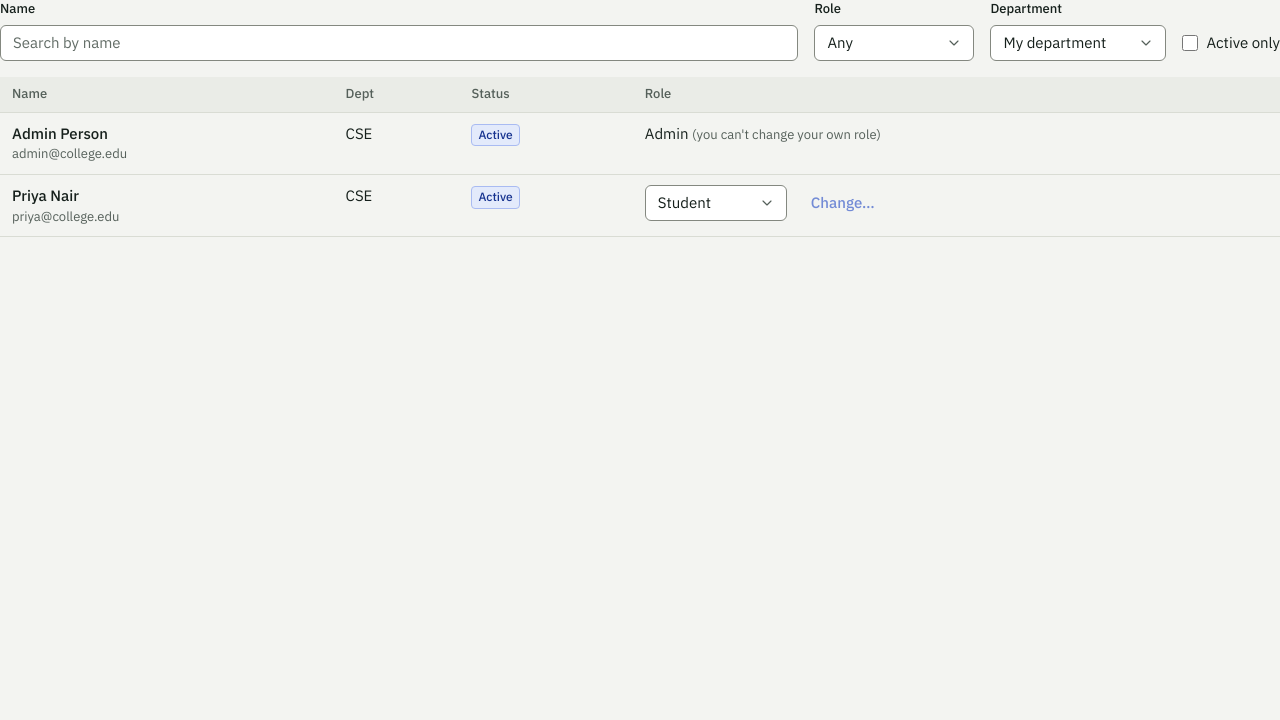
users tab › changes a role only after a confirm that says what the role allows
Select "Faculty" in the dropdown named "Role for Priya Nair" at (716, 203), box left=645, top=185, right=787, bottom=221
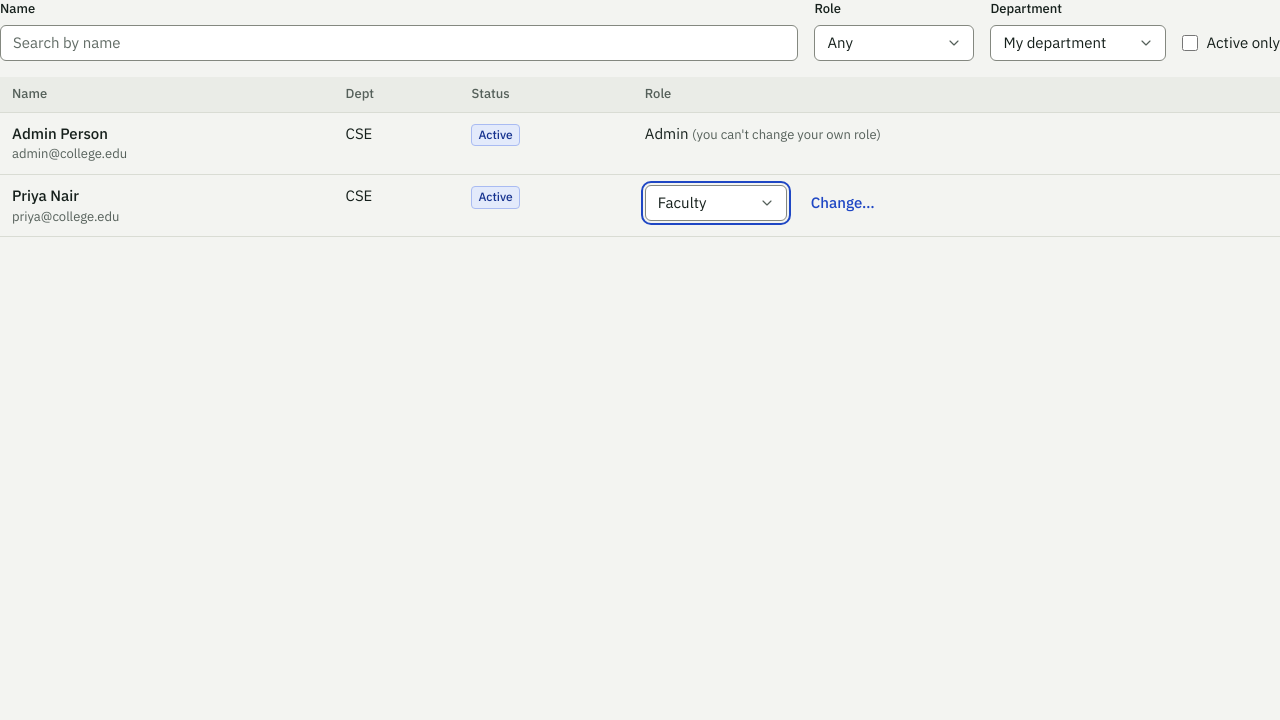
Click the button "Change…".
click(843, 203)  # box left=795, top=185, right=891, bottom=221
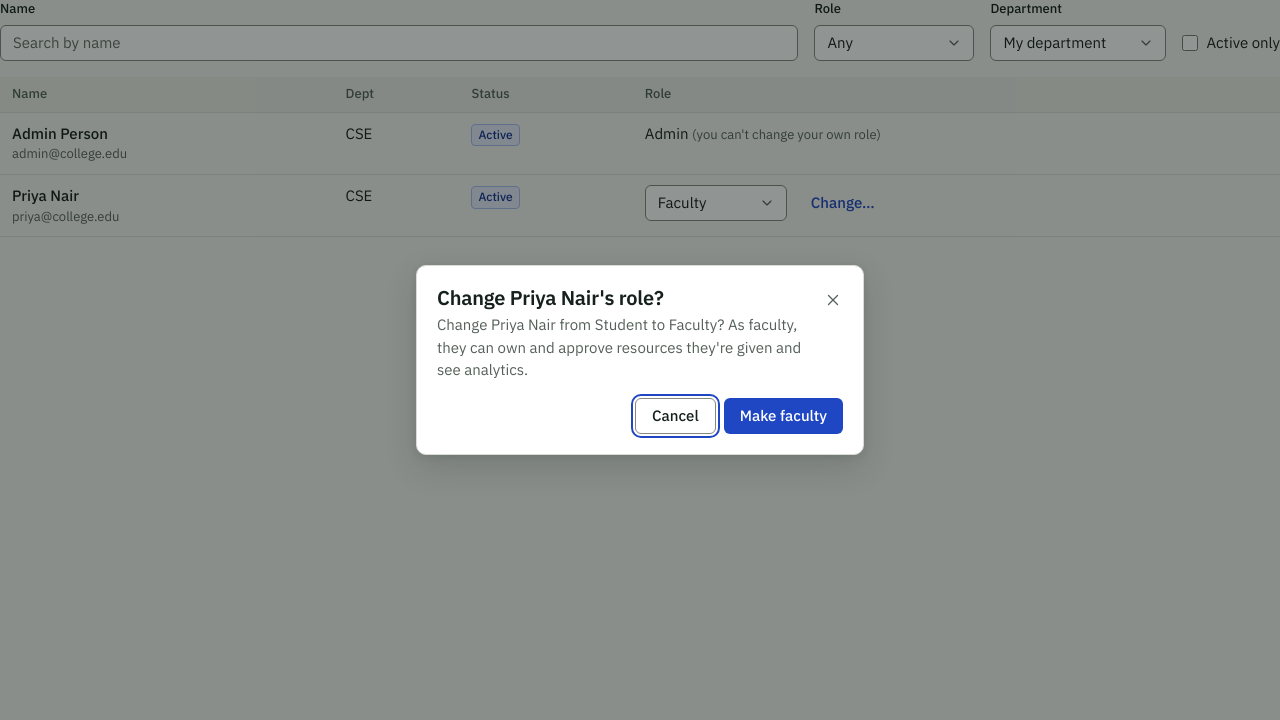
Click the button "Make faculty".
click(783, 416)  # box left=724, top=398, right=843, bottom=434
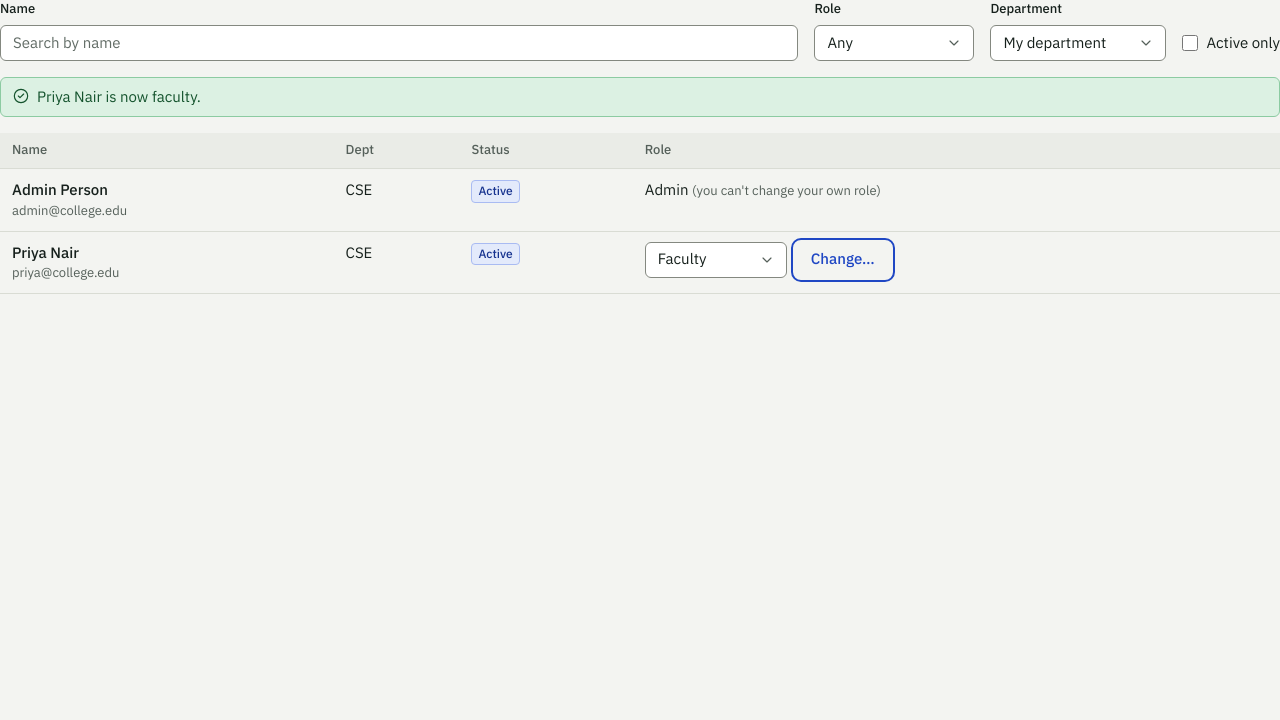
Now the text "Priya Nair is now faculty." is shown, box left=37, top=86, right=201, bottom=108
